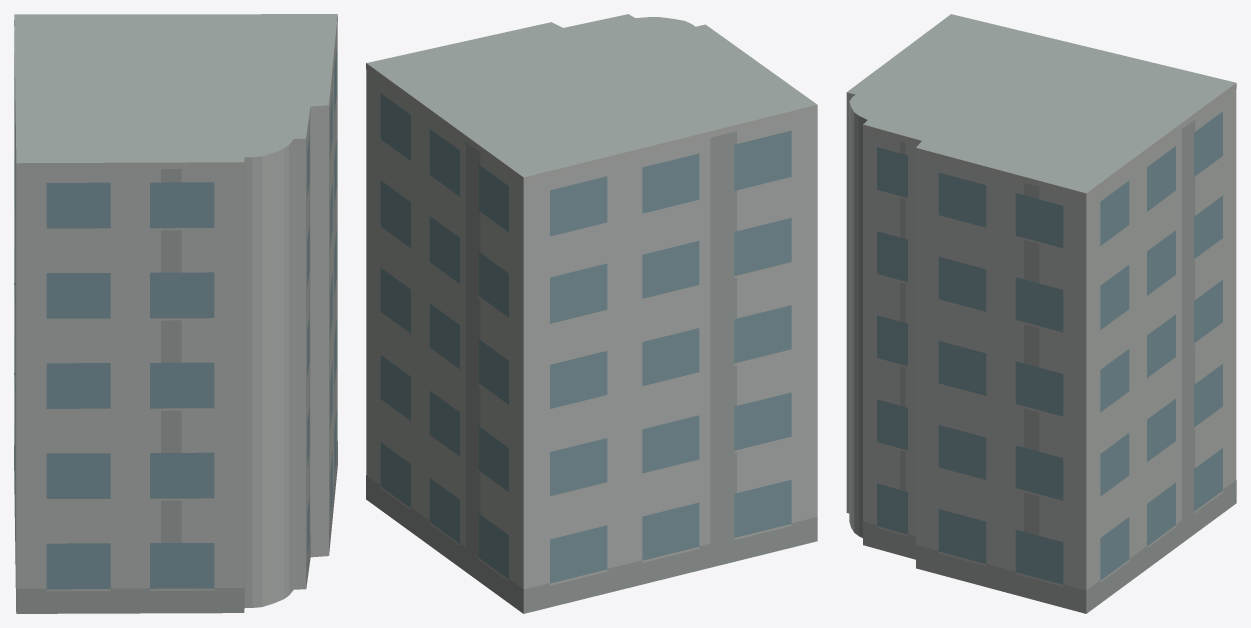
File: survey-upis-32831193.glb
The picture shows the model from 3 angles, left to right: view 1: azimuth 30°, elevation 25°; view 2: azimuth 150°, elevation 25°; view 3: azimuth 270°, elevation 25°; orthographic projection. The views are drawn at different scales.
Visible parts, largest first — view 1: survey-upis-32831193.tmp; view 2: survey-upis-32831193.tmp; view 3: survey-upis-32831193.tmp.
Part boxes in pixels (left/top/right/bottom): survey-upis-32831193.tmp: left=14, top=14, right=337, bottom=613; survey-upis-32831193.tmp: left=366, top=14, right=817, bottom=613; survey-upis-32831193.tmp: left=846, top=14, right=1236, bottom=613.
Bounding box in the file's own units: 15.19 × 16.6 × 13.96.
